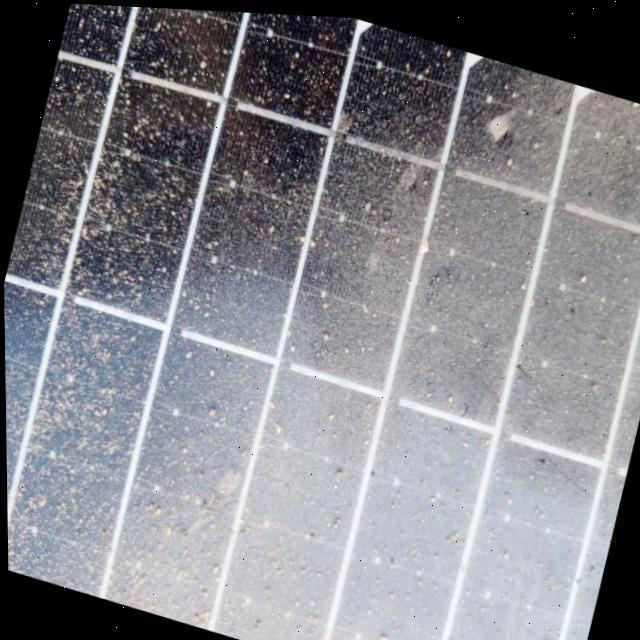Surface Contaminant: (3, 3, 640, 640)
